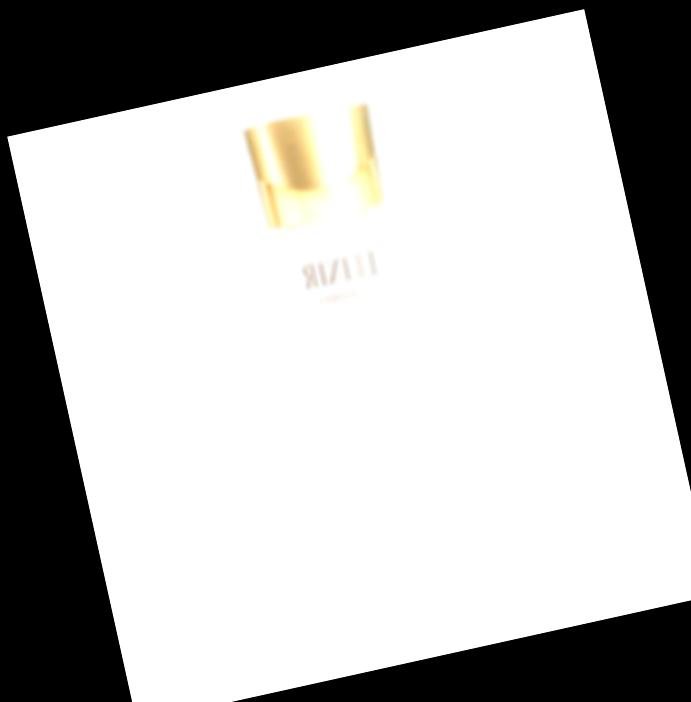cosmetic: (238, 99, 475, 628)
